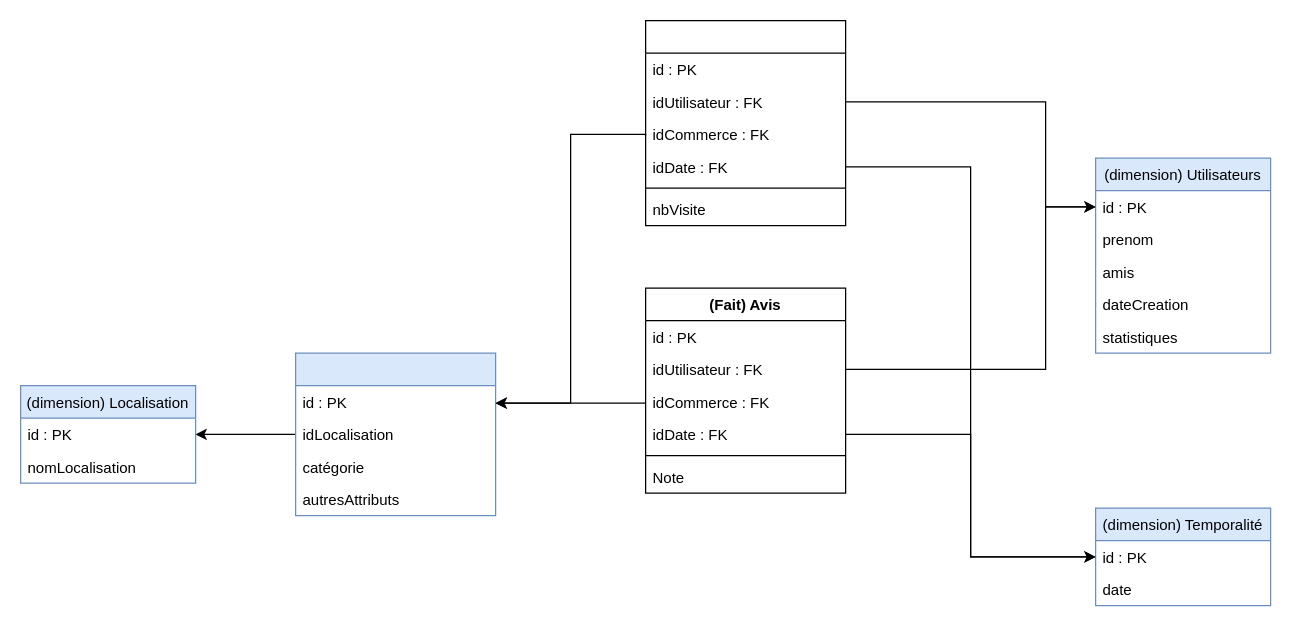
Some shapes in this 1291 by 626 pixel diagram are drawn without their labels. The shapes that lost their labels are listed below. From the top down, each one's box as (x1, y1, x2, y2) in pixels, then its label:
(644, 19, 846, 226): (Fait) Checkins
(294, 352, 496, 516): (Dimension) Commerces
